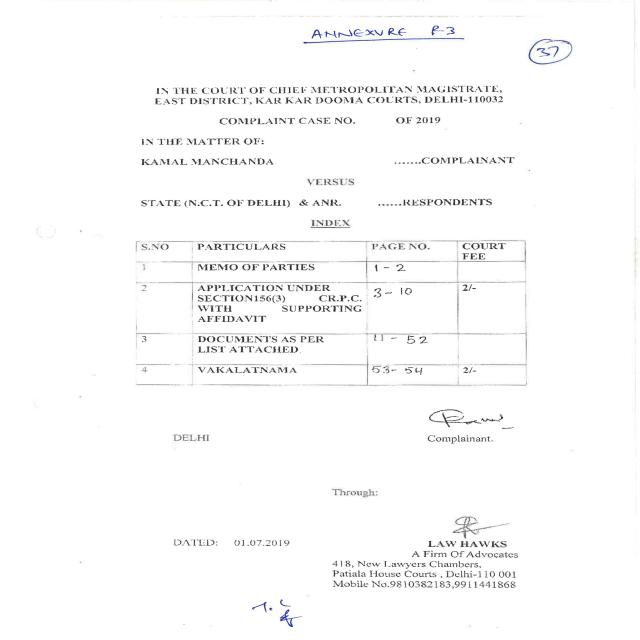page-number: (490, 24, 631, 82)
